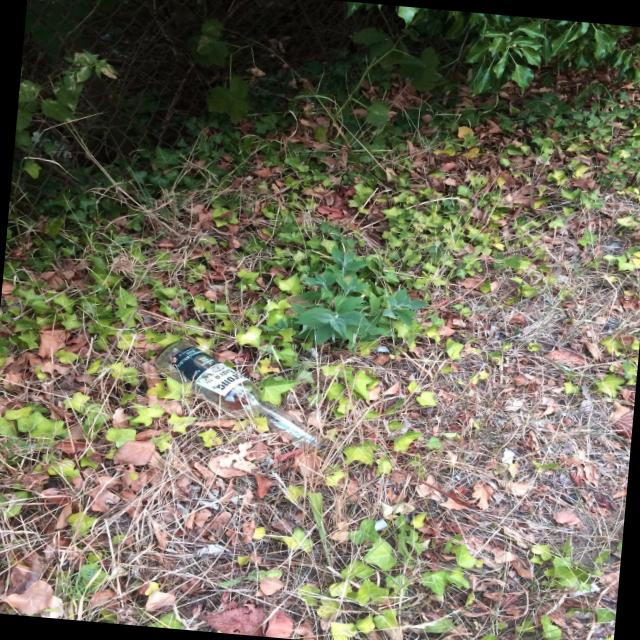less trash: (154, 341, 316, 445)
